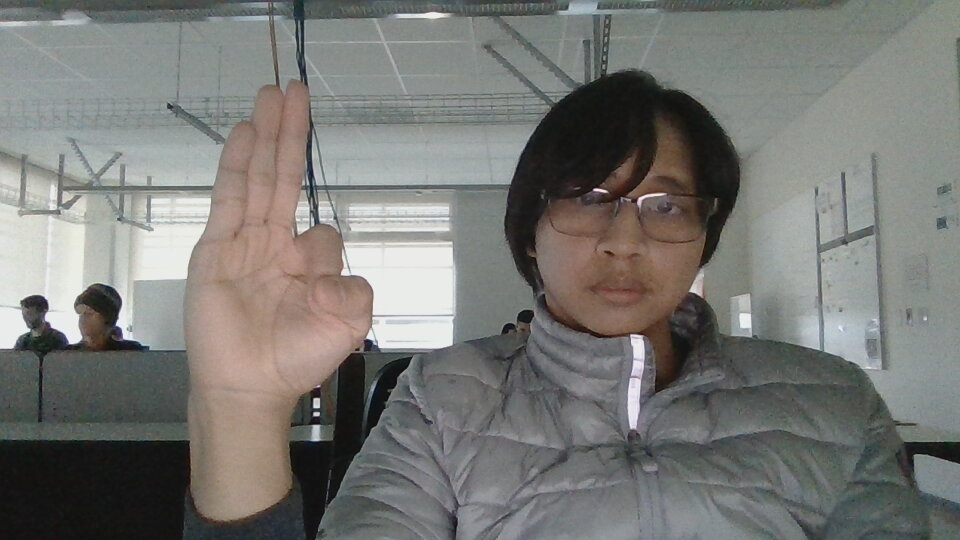f: (183, 76, 376, 400)
